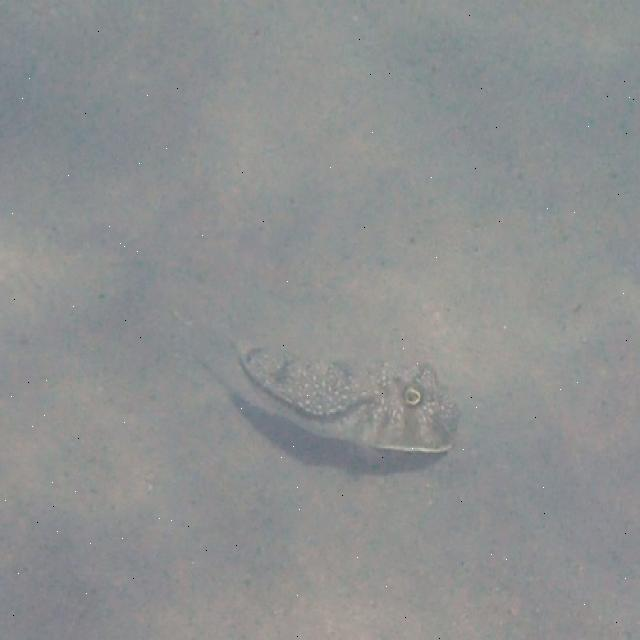Balik: (239, 345, 459, 452)
